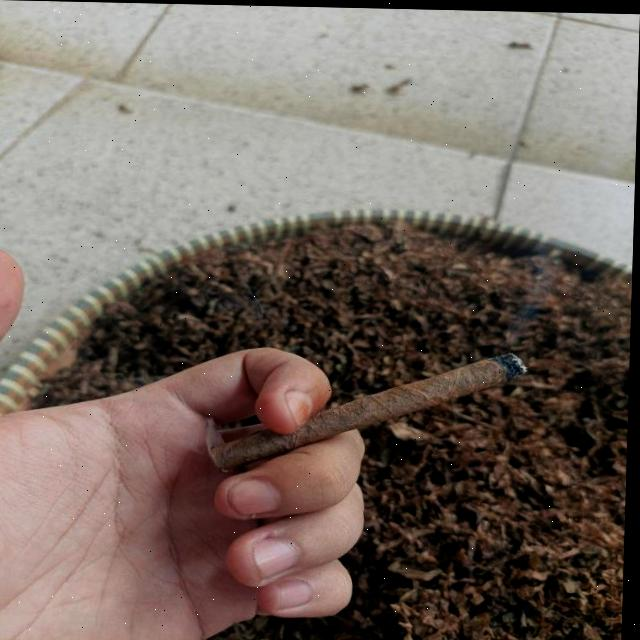cigarette: (217, 345, 528, 472)
